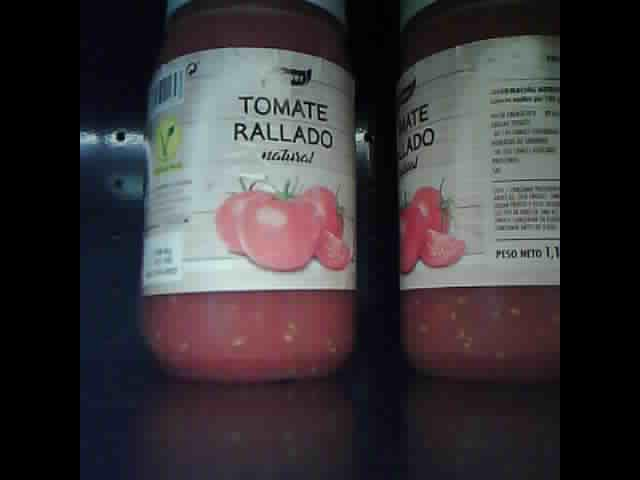tomate: (141, 6, 358, 384), (396, 8, 558, 382)
